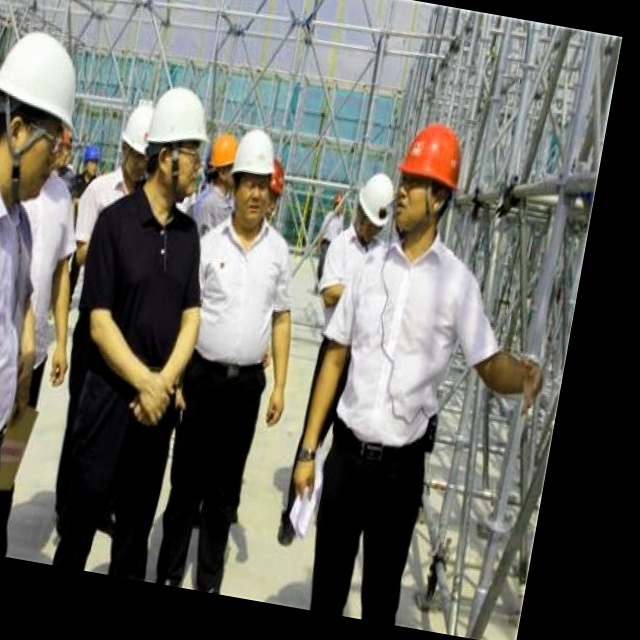Sin_Chaleco: (328, 227, 472, 452), (70, 188, 211, 386), (177, 211, 294, 381)
